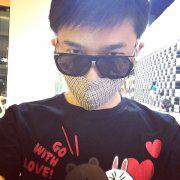WRONG: (57, 34, 135, 112)
